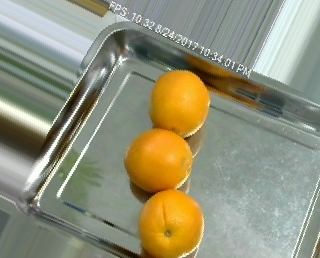Orange: (138, 188, 204, 258), (124, 129, 194, 192), (148, 69, 210, 137)
